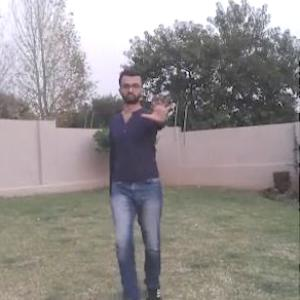follow_hand: (140, 82, 178, 124)
